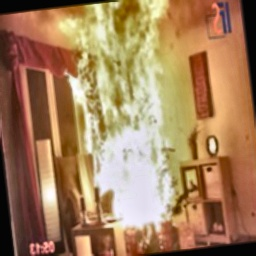fire: (41, 0, 211, 246)
